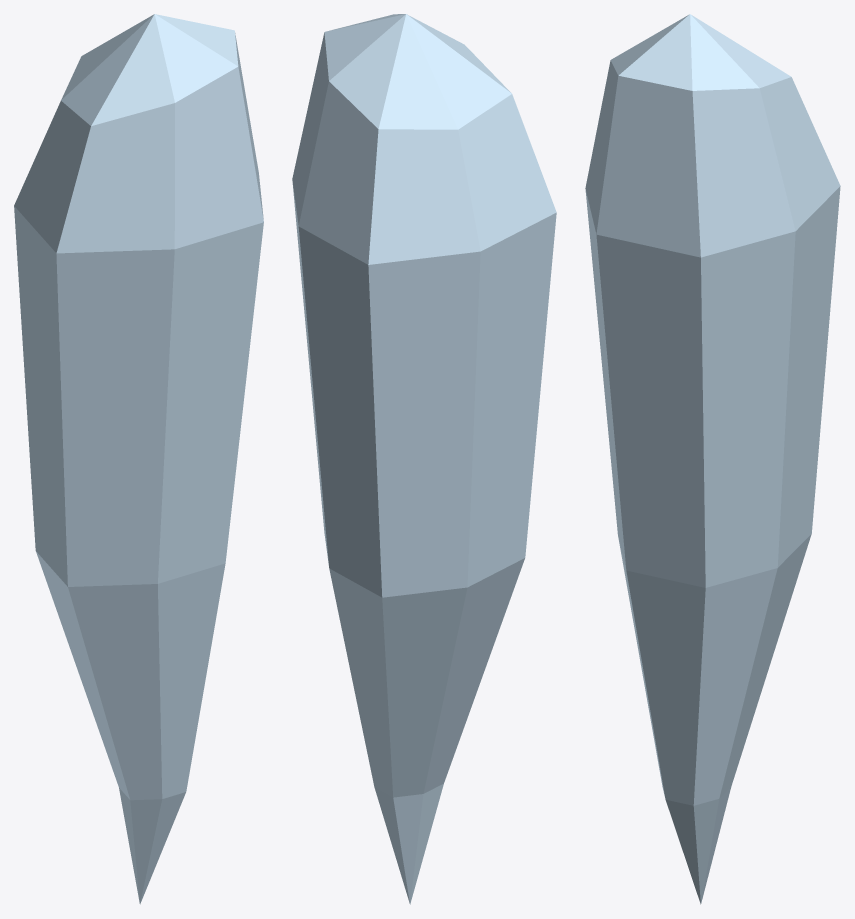
File: ice_spike.glb
The picture shows the model from 3 angles, left to right: view 1: azimuth 30°, elevation 25°; view 2: azimuth 150°, elevation 25°; view 3: azimuth 270°, elevation 25°; orthographic projection.
Parts seen in each view (by area): view 1: IceSpike; view 2: IceSpike; view 3: IceSpike.
Part boxes in pixels (x1,y1,x2,y2): IceSpike: (14, 14, 263, 904); IceSpike: (292, 14, 556, 904); IceSpike: (585, 14, 840, 904).
Size of the model in its own units: 0.4538 by 1.65 by 0.426.
